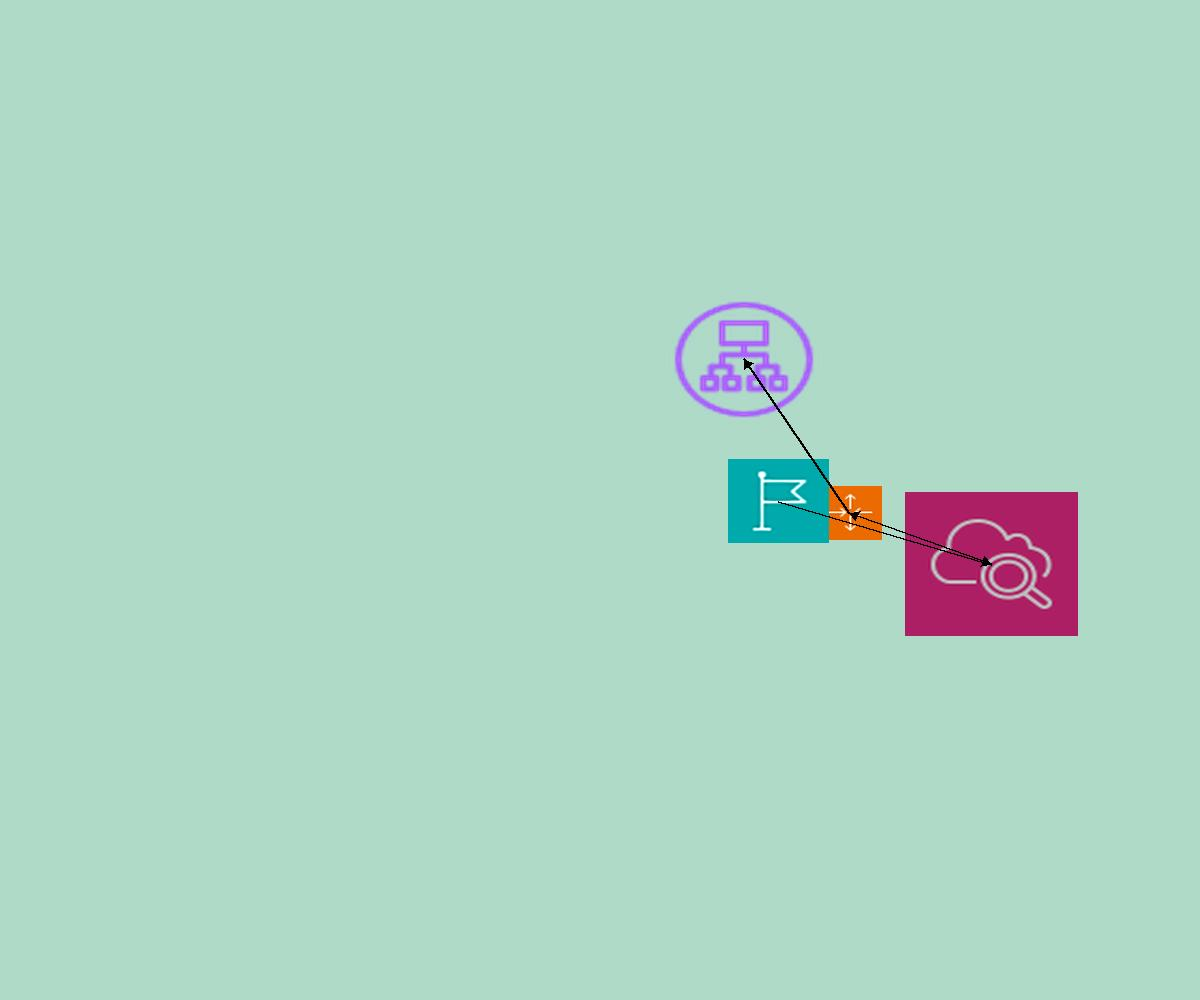AWS-CloudWatch: (905, 492, 1078, 636)
AWS-Region: (728, 459, 829, 543)
AWS-Res_Elastic-Load-Balancing_Application-Load-Balancer: (669, 297, 819, 422)
AWS-Scaling-group: (817, 486, 882, 540)
